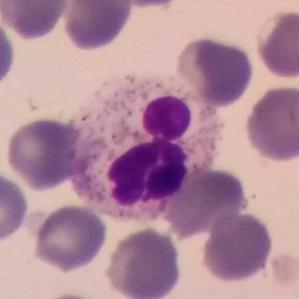Neutrophil: (64, 70, 226, 225)
RBC: (158, 164, 250, 238), (173, 34, 257, 108), (102, 225, 184, 299), (2, 115, 80, 191), (199, 209, 276, 284), (31, 202, 109, 273), (242, 83, 299, 164), (60, 0, 134, 53), (253, 6, 299, 81), (0, 0, 71, 41), (0, 168, 31, 245), (0, 13, 18, 92), (271, 250, 299, 292), (103, 0, 188, 10), (55, 291, 95, 299)
